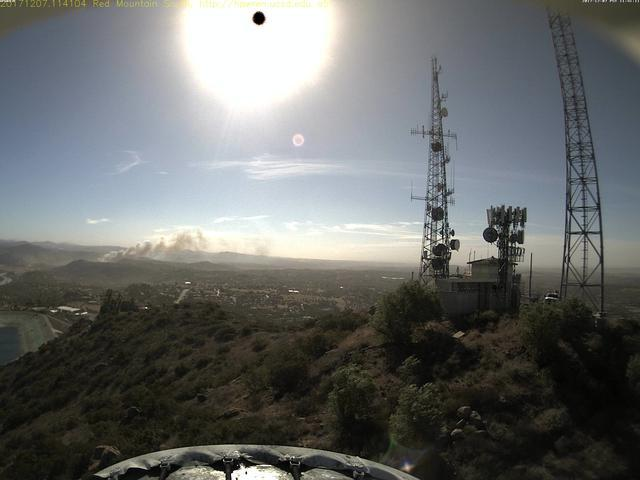smoke: (94, 221, 268, 266)
